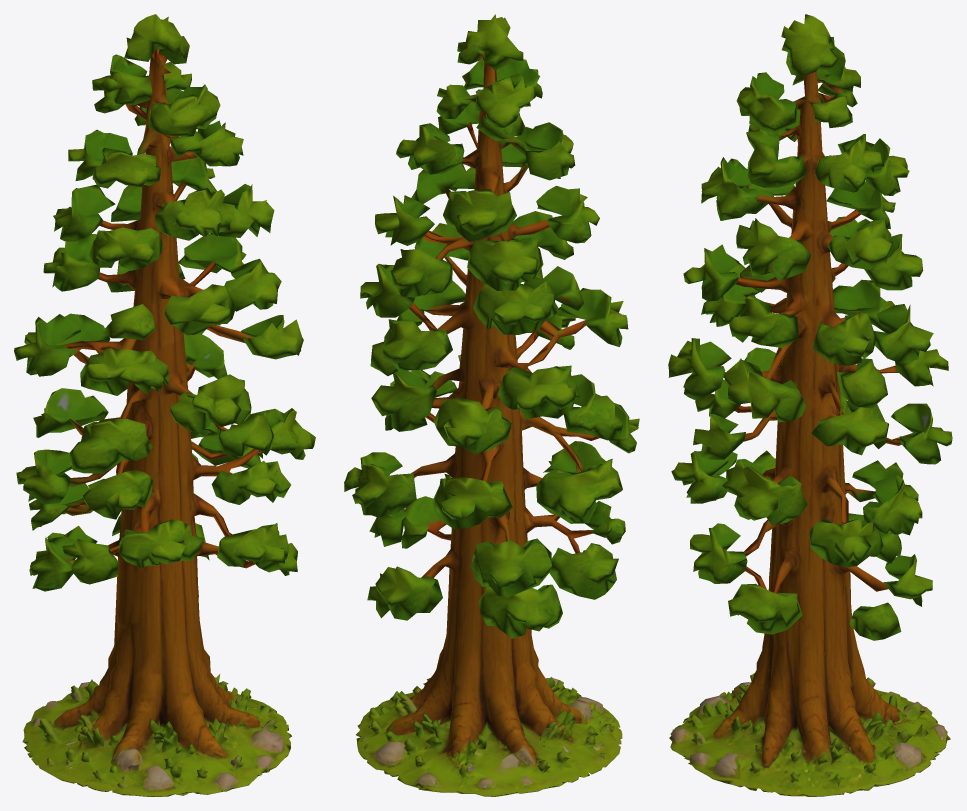
The model's file is tree.glb.
The picture shows the model from 3 angles, left to right: view 1: azimuth 30°, elevation 25°; view 2: azimuth 150°, elevation 25°; view 3: azimuth 270°, elevation 25°; orthographic projection.
Parts seen in each view (by area): view 1: tripo_node_7ef23264-9964-4cc4-9f1b-273bebed3a07; view 2: tripo_node_7ef23264-9964-4cc4-9f1b-273bebed3a07; view 3: tripo_node_7ef23264-9964-4cc4-9f1b-273bebed3a07.
Boxes of the visible parts, <box> form: tripo_node_7ef23264-9964-4cc4-9f1b-273bebed3a07: <box>14,14,315,796</box>; tripo_node_7ef23264-9964-4cc4-9f1b-273bebed3a07: <box>344,14,639,796</box>; tripo_node_7ef23264-9964-4cc4-9f1b-273bebed3a07: <box>668,14,952,796</box>.
Bounding box in the file's own units: 0.382 × 1 × 0.3559.
1 material, 1 textured.
